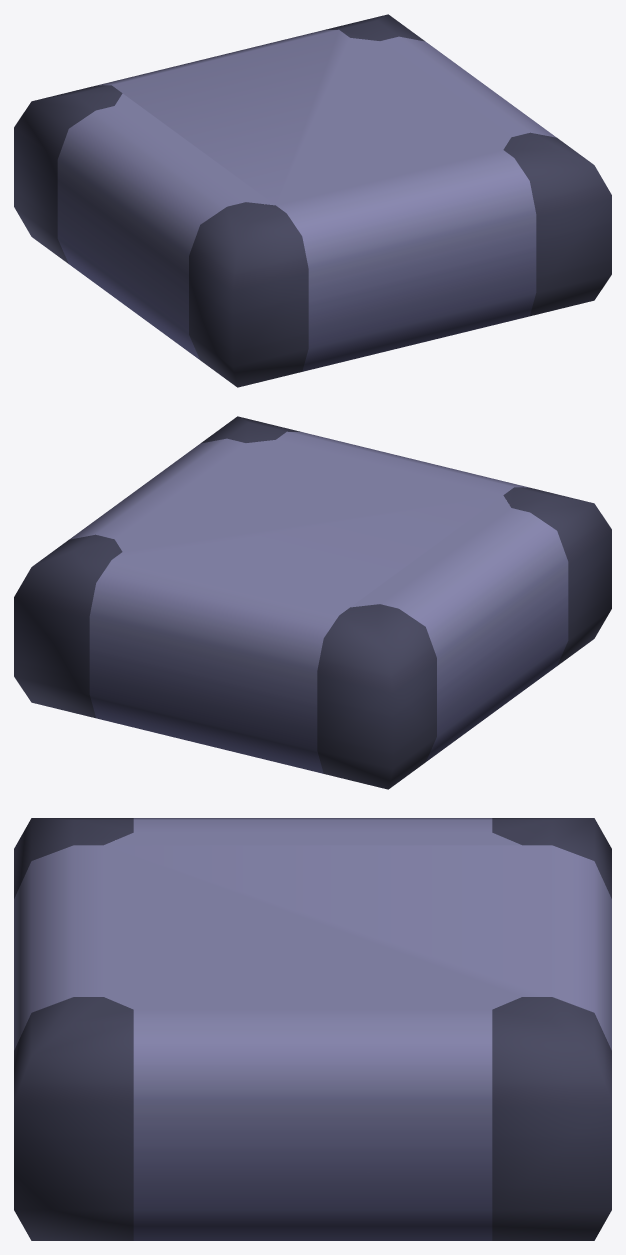
File: kenney-conveyor-conveyor-stripe-cross.glb
The picture shows the model from 3 angles, top to bottom: view 1: azimuth 30°, elevation 25°; view 2: azimuth 150°, elevation 25°; view 3: azimuth 270°, elevation 25°; orthographic projection. The views are drawn at different scales.
Visible parts, largest first — view 1: conveyor-stripe-cross; view 2: conveyor-stripe-cross; view 3: conveyor-stripe-cross.
Boxes of the visible parts, x1,y1,x2,y2 form: conveyor-stripe-cross: (14, 14, 611, 387); conveyor-stripe-cross: (14, 416, 611, 789); conveyor-stripe-cross: (14, 818, 611, 1240).
Size of the model in its own units: 1 by 0.3999 by 1.
1 material, 1 textured.
